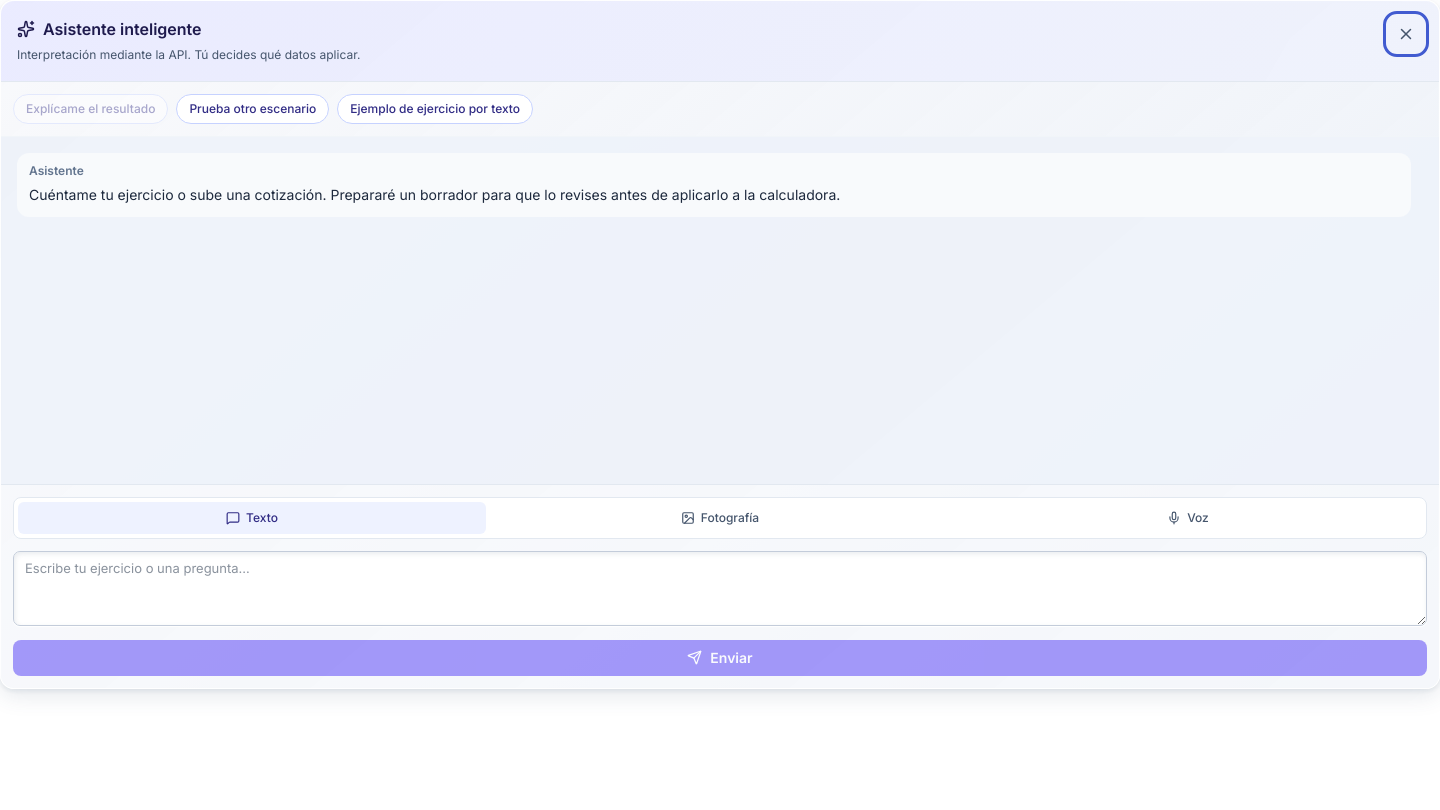
Test: Espera amable sin volver a ingresar datos › cancelar devuelve el mensaje al editor y no permite reintentos tardíos
Type "Mensaje que debo conservar" into the text box named "Mensaje para el asistente" at (720, 588), box [13,551,1427,626]
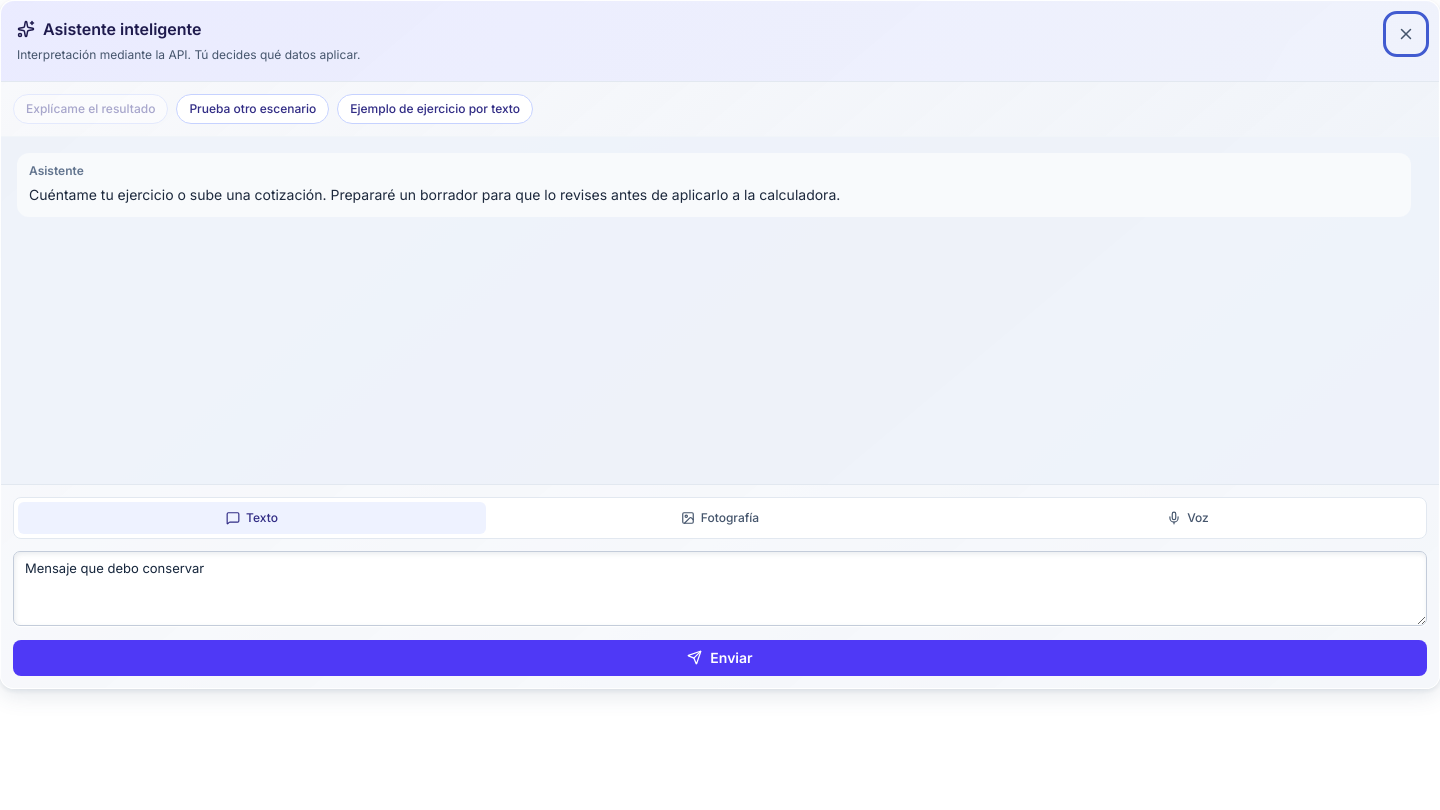
Click the button "Enviar" at (720, 658), box [13,640,1427,676]
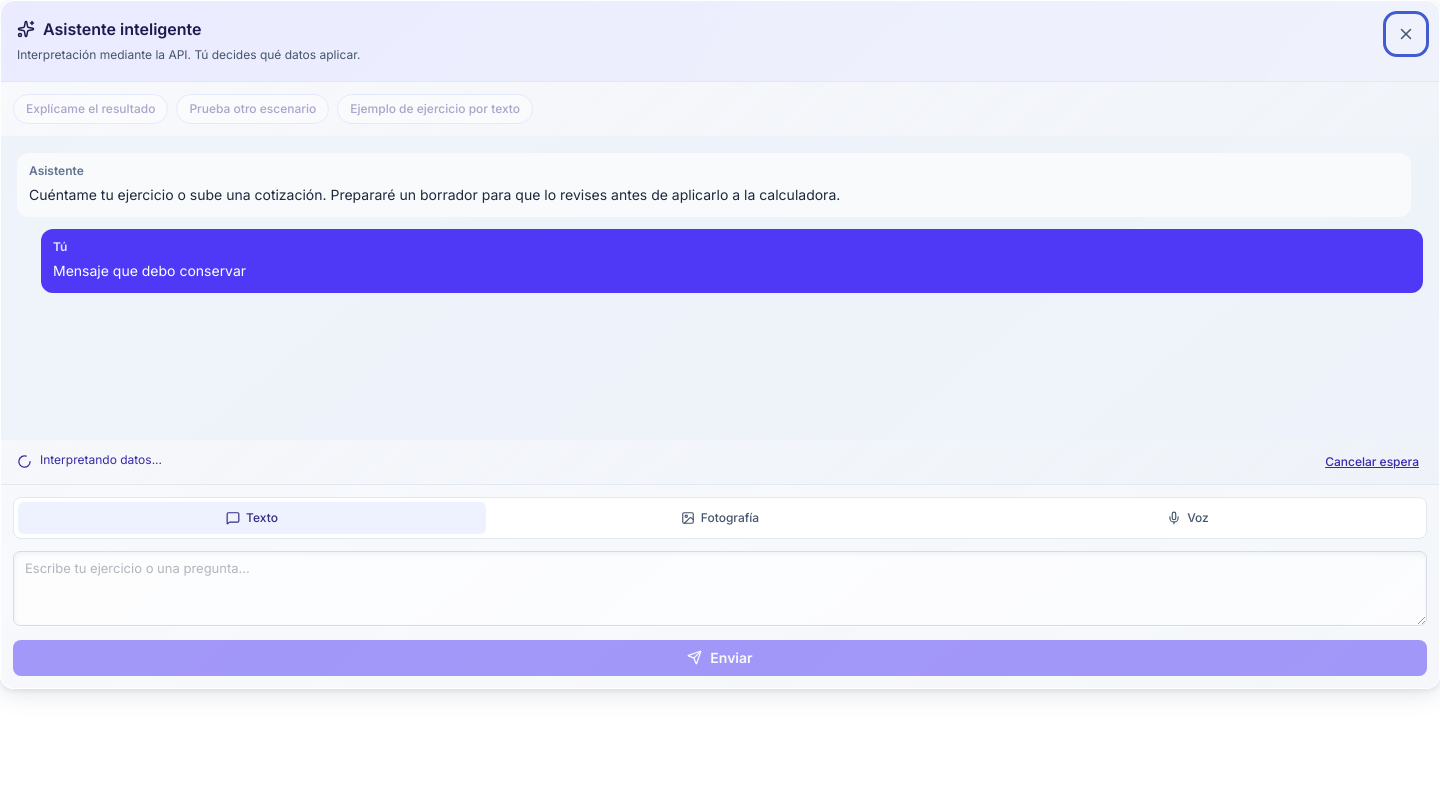
Click the button "Cancelar espera" at (1372, 462), box [1321,452,1423,472]
Wait 180000 ms
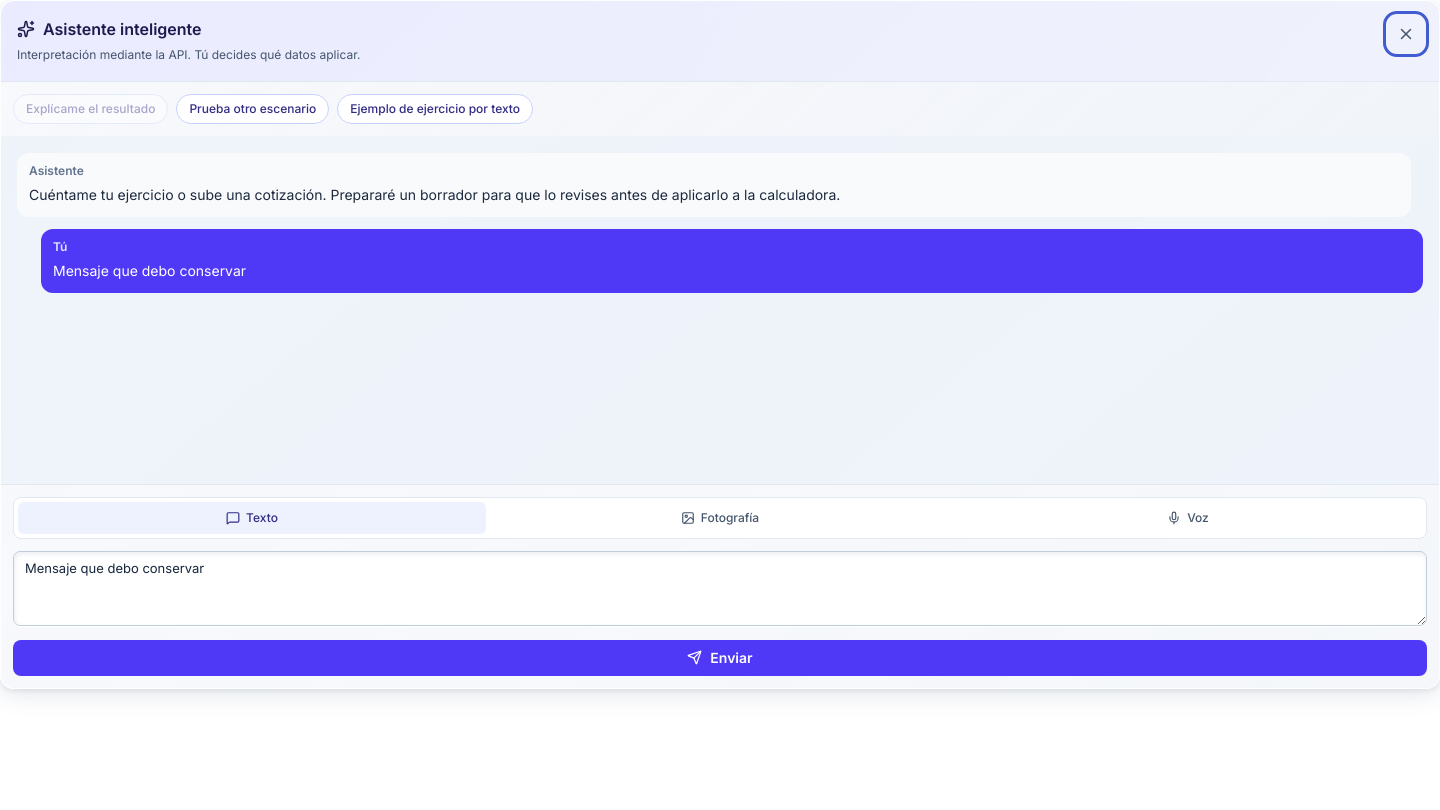
Result: the message "Interpretando datos..." is gone
